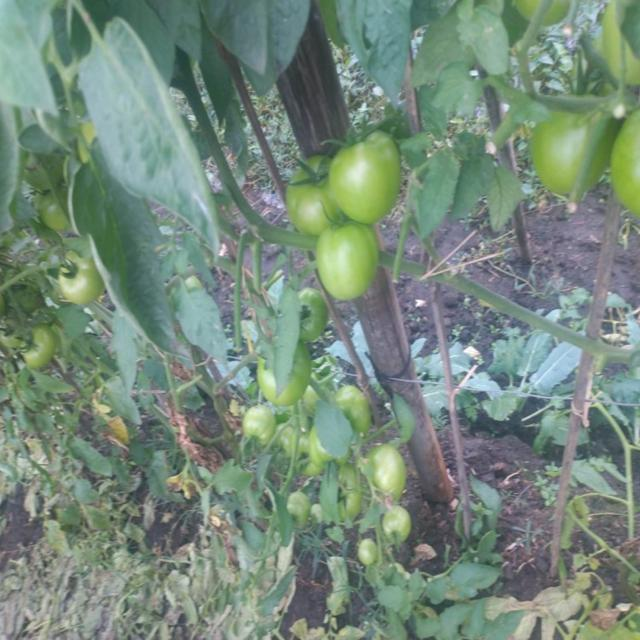tomato: (332, 134, 402, 226), (316, 216, 385, 305), (287, 157, 346, 243), (533, 117, 587, 188), (602, 7, 640, 83), (614, 114, 640, 205), (59, 254, 103, 305), (374, 437, 410, 499), (340, 384, 375, 431), (18, 327, 56, 369), (300, 291, 330, 344), (287, 349, 313, 406), (337, 465, 363, 521), (240, 404, 279, 440), (41, 192, 72, 231), (519, 1, 574, 22), (301, 440, 333, 474), (382, 511, 414, 542), (256, 365, 276, 405), (291, 494, 311, 531), (354, 539, 379, 568), (304, 374, 321, 409), (1, 321, 22, 348)
